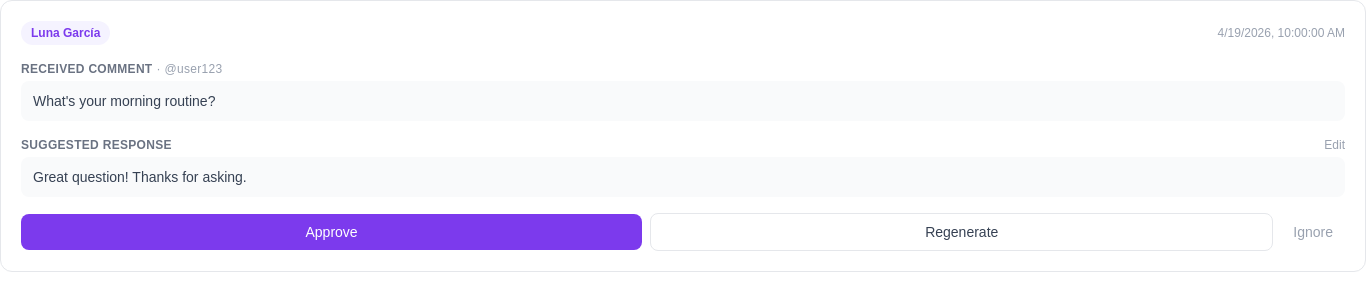
Test: ApprovalCard › approve action › shows loading state while approving
The image size is (1366, 289).
Click the button "Approve" at (332, 232), box [21,214,642,250]
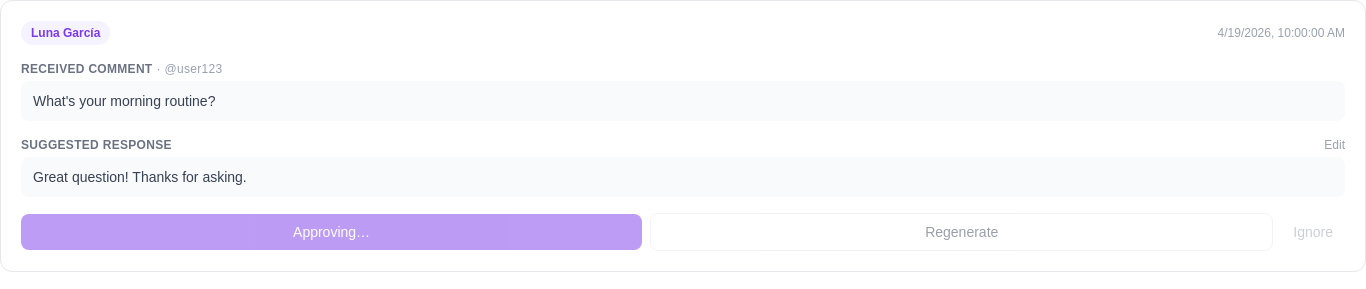
Now the button "Approving…" is disabled, box [21,214,642,250]
